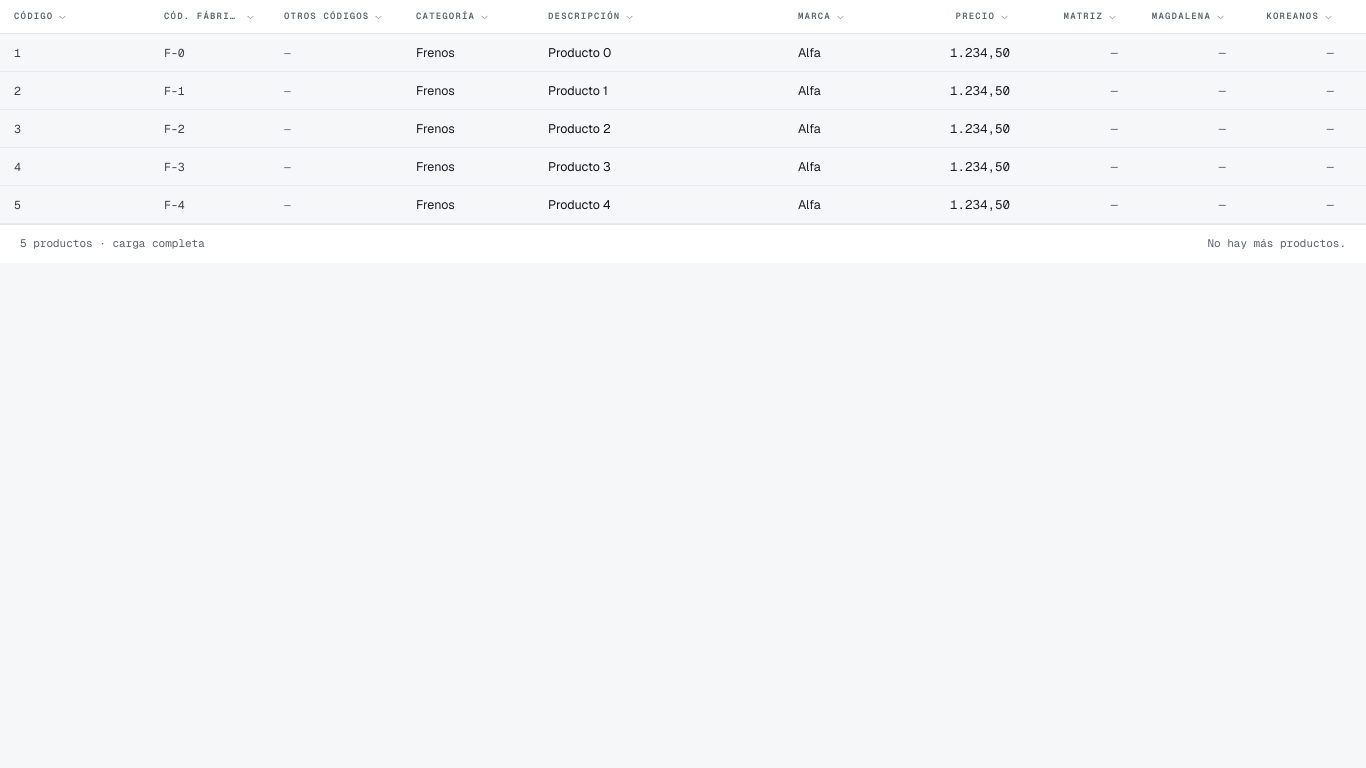
Test: CatalogoProductos: la tabla › la columna de precio Matriz se ordena pero no se filtra: el panel es solo de orden
Click the button "Matriz": (1078, 17) [1024,0,1132,34]
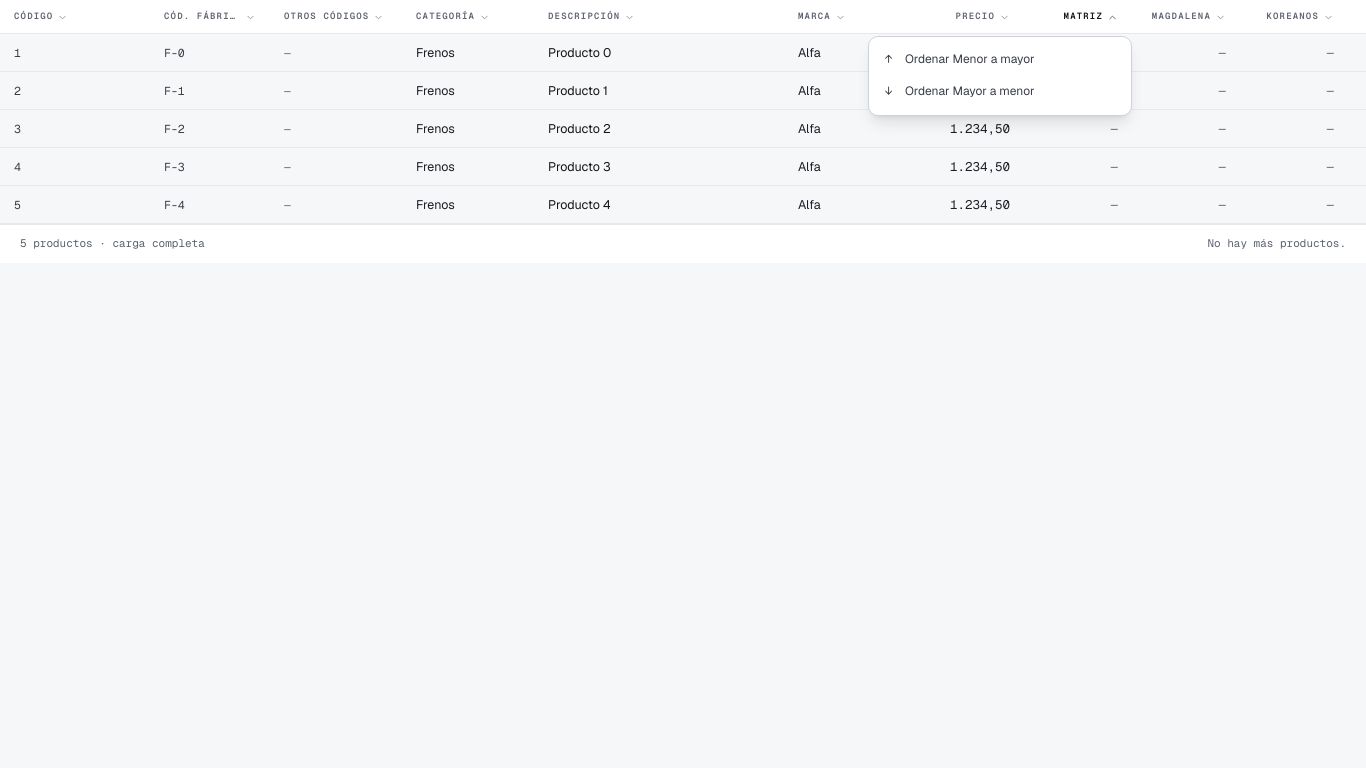
Click the button "↑ Ordenar Menor a mayor": (1000, 60) [877,45,1123,75]
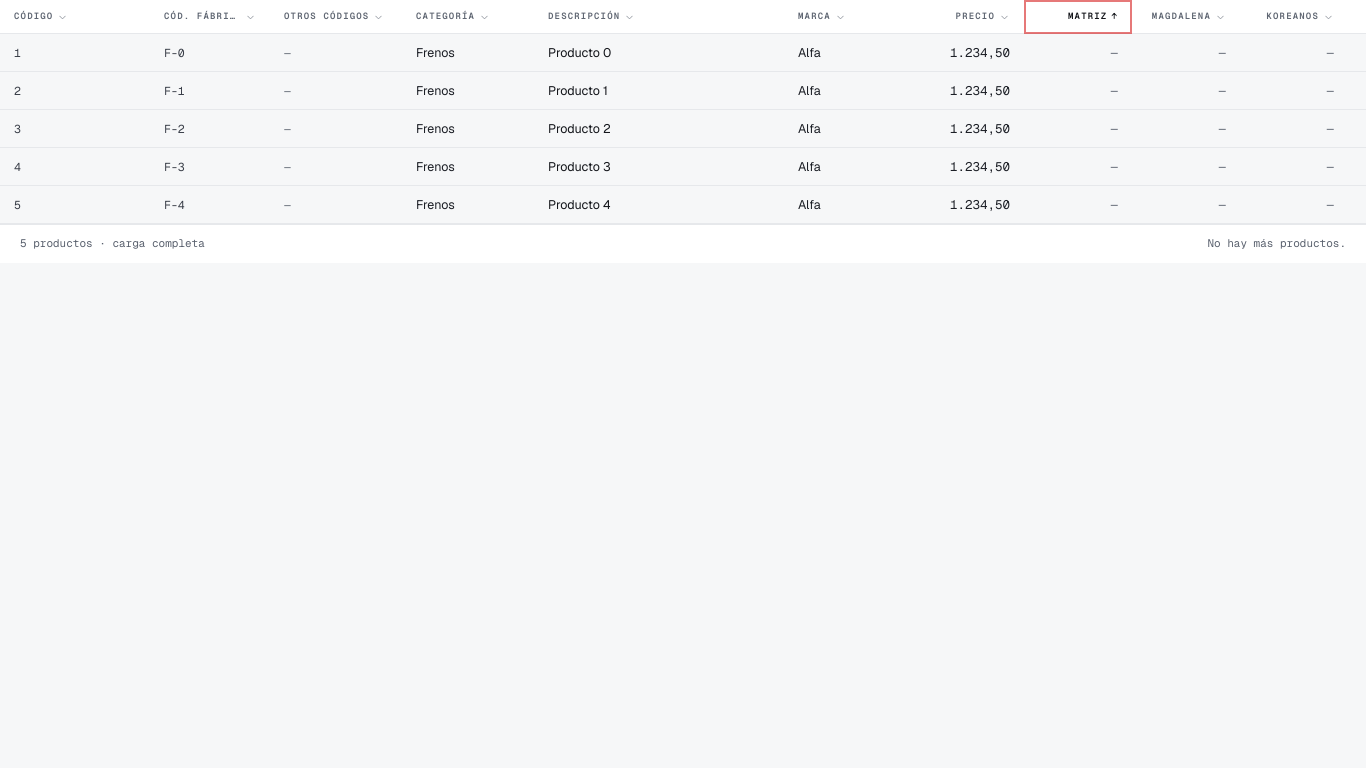
expect the dialog is gone: met
